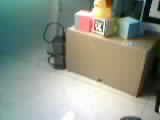duck: (77, 2, 117, 27)
